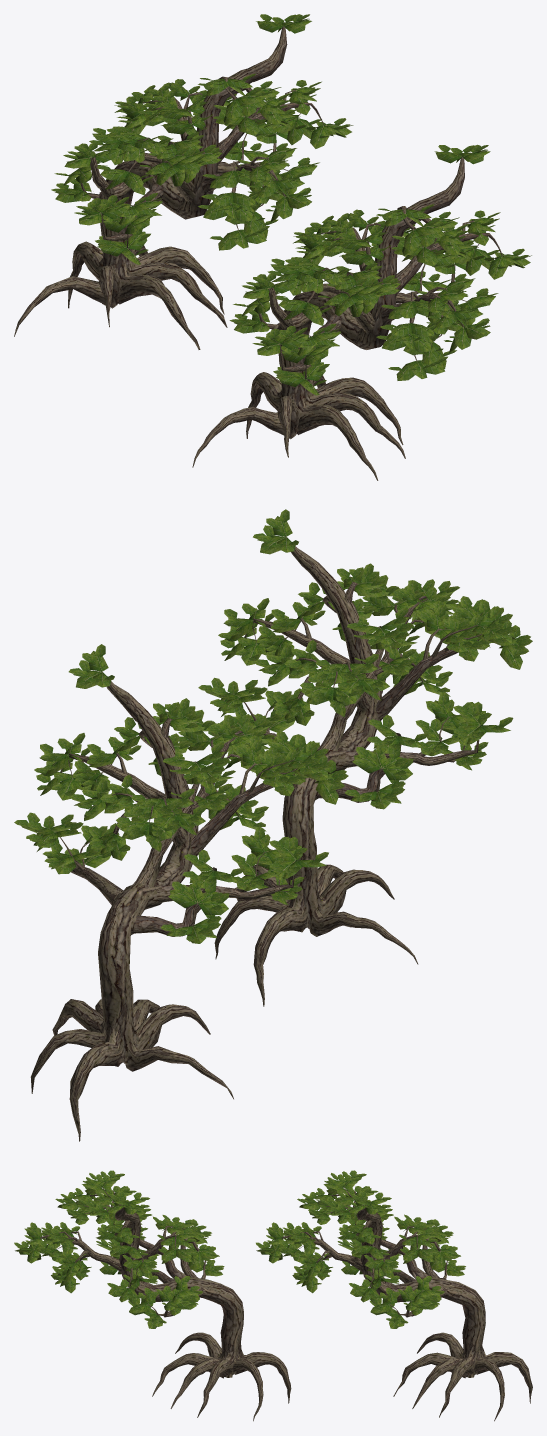
Rendered from Trees.fbx.
3 views of the same model, one above another, from view 1: azimuth 30°, elevation 25°; view 2: azimuth 150°, elevation 25°; view 3: azimuth 270°, elevation 25° (orthographic). The views are drawn at different scales.
Visible parts, largest first — view 1: Tree_lod2, Tree_lod1; view 2: Tree_lod2, Tree_lod1; view 3: Tree_lod2, Tree_lod1.
Part boxes in pixels (x1=…): Tree_lod2: x1=14, y1=14, x2=353, y2=349; Tree_lod1: x1=192, y1=144, x2=531, y2=480; Tree_lod2: x1=14, y1=644, x2=348, y2=1141; Tree_lod1: x1=198, y1=509, x2=532, y2=1006; Tree_lod2: x1=256, y1=1170, x2=532, y2=1421; Tree_lod1: x1=14, y1=1170, x2=291, y2=1421.
Bounding box in the file's own units: 1781 × 2221 × 4297.
